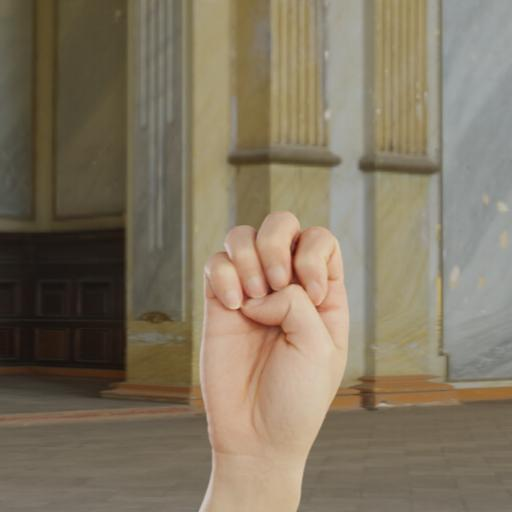E: (187, 202, 370, 449)
